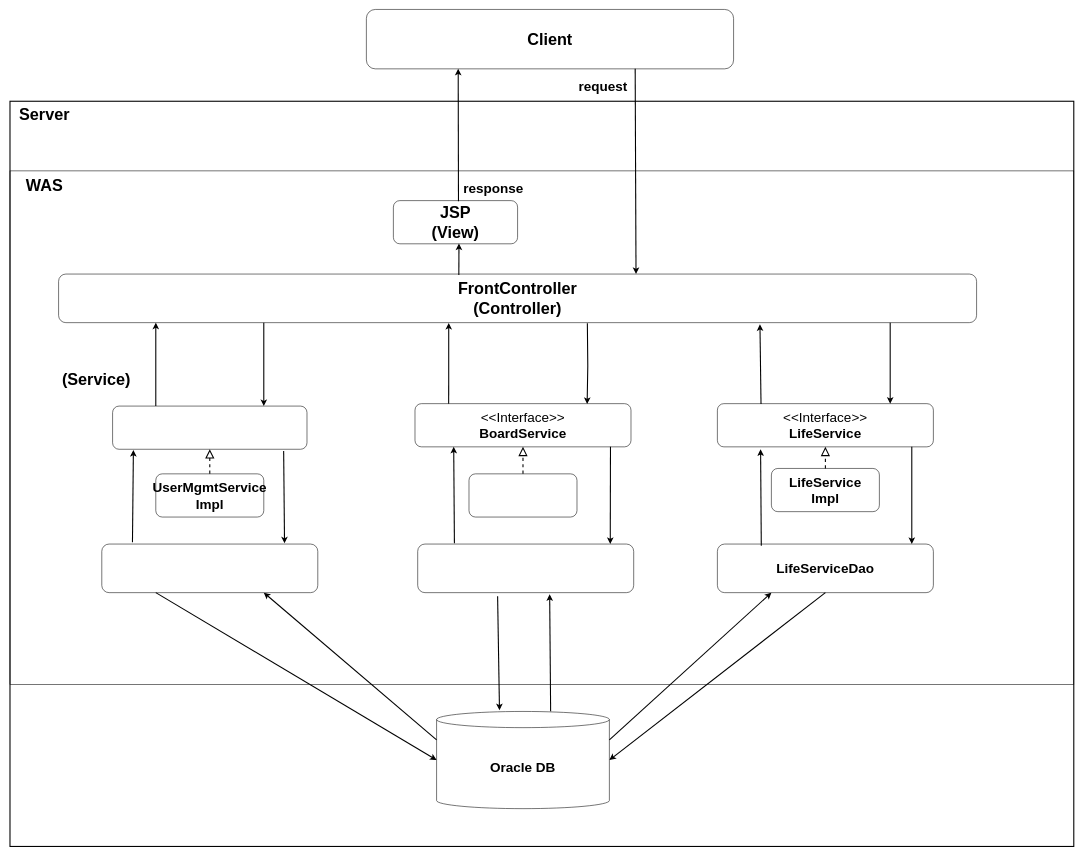
The diagram is 1083 pixels wide and 860 high, and some of its shapes have lost their labels. Each missing label, with the centre of its shape:
<<Interface>> UserMgmtService: point 209,427
BoardDao: point 525,568
BoardService Impl: point 522,495
UserMgmtDao: point 209,568
